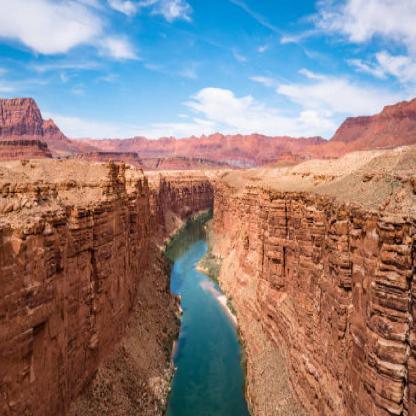Sedimentary_Sandstone: (8, 228, 62, 405), (366, 226, 415, 414), (300, 204, 352, 375), (221, 178, 287, 284), (75, 207, 116, 352), (118, 172, 156, 304), (1, 94, 43, 169)
